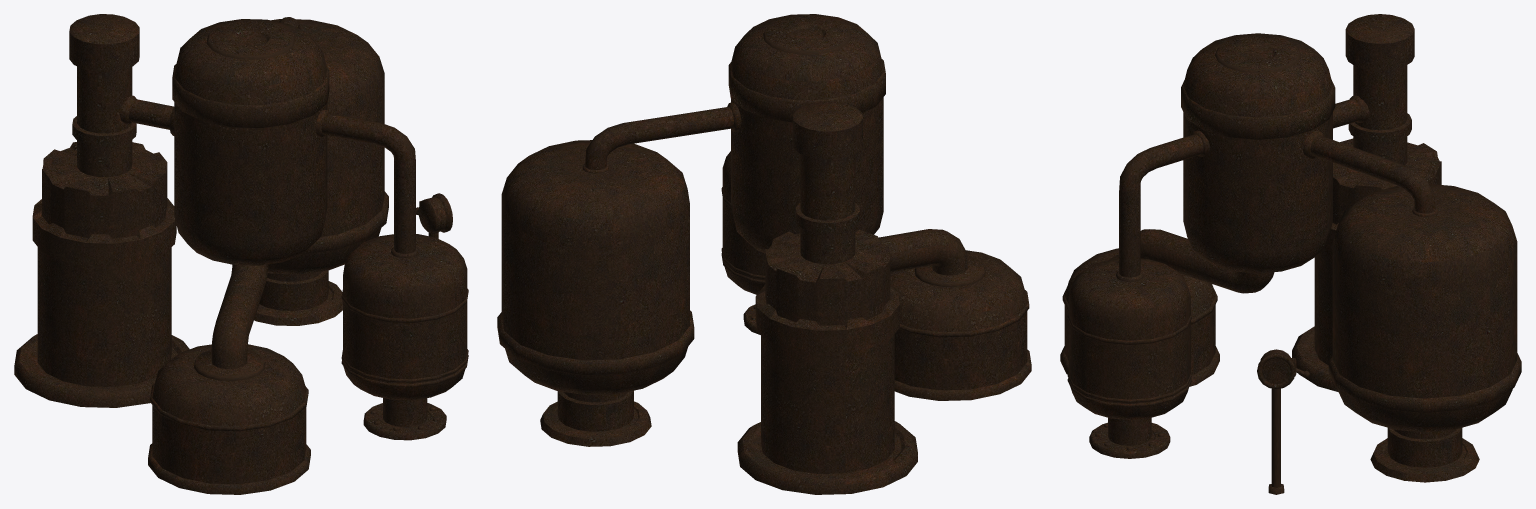
Rendered from tank_system_mx_1.glb.
3 renders of one model, left to right at view 1: azimuth 30°, elevation 25°; view 2: azimuth 150°, elevation 25°; view 3: azimuth 270°, elevation 25°, orthographic. The views are drawn at different scales.
Parts seen in each view (by area): view 1: tank_system_mx_1; view 2: tank_system_mx_1; view 3: tank_system_mx_1.
Part boxes in pixels (x1,y1,x2,y2): tank_system_mx_1: [14, 14, 468, 494]; tank_system_mx_1: [497, 14, 1031, 494]; tank_system_mx_1: [1060, 14, 1521, 494].
Size of the model in its own units: 2.61 by 2.39 by 2.87.
Materials: 1 (1 with a texture image).
